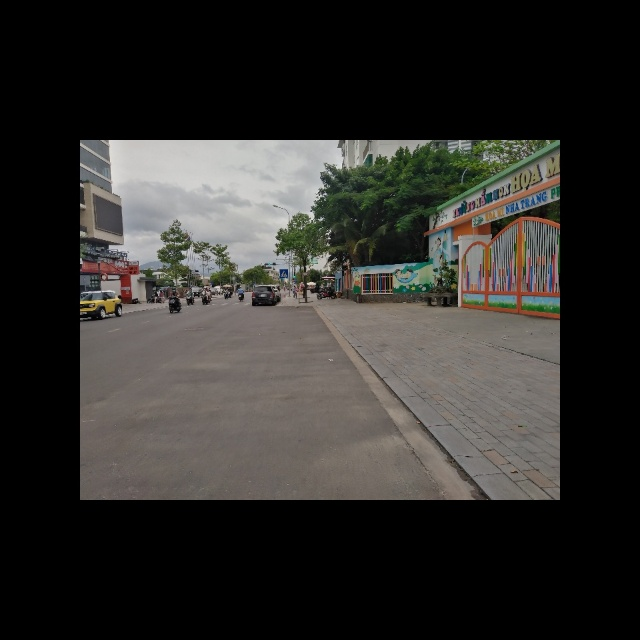Đường dành cho người đi bộ: (279, 269, 288, 278)
